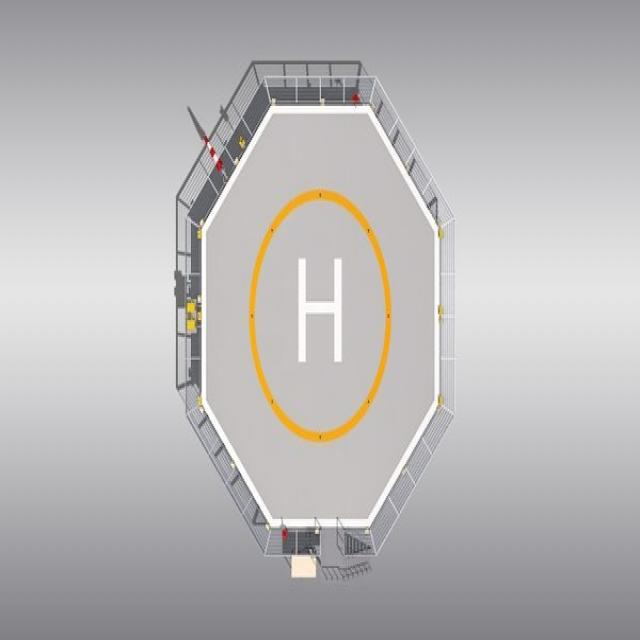helipad: (243, 182, 394, 445)
